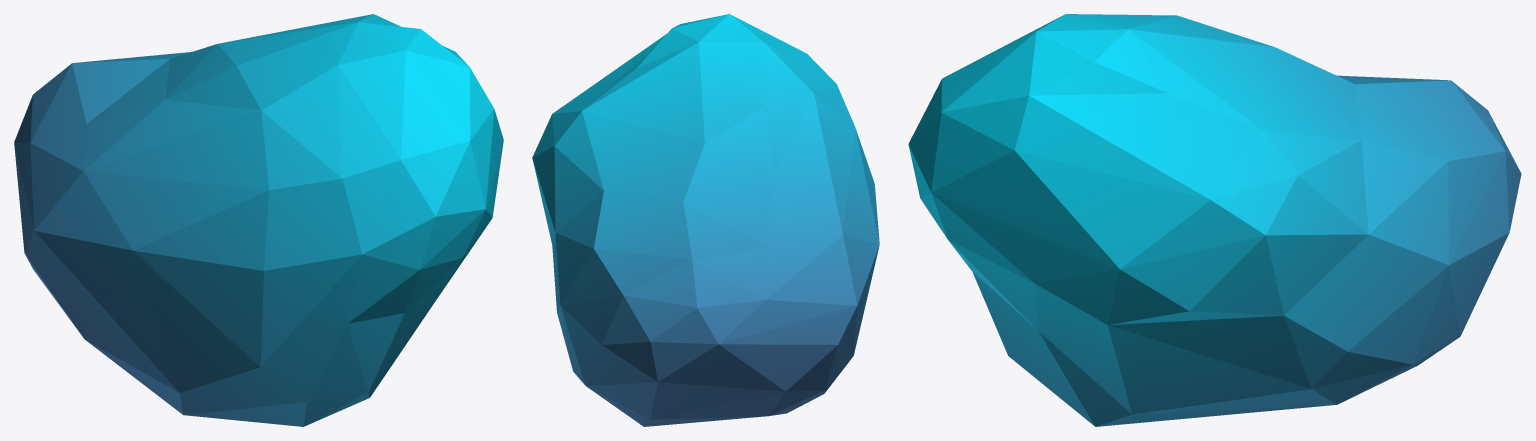
Rendered from Slate.fbx.
3 views of the same model, side by side, from view 1: azimuth 30°, elevation 25°; view 2: azimuth 150°, elevation 25°; view 3: azimuth 270°, elevation 25° (orthographic). The views are drawn at different scales.
Parts seen in each view (by area): view 1: SLATE.001; view 2: SLATE.001; view 3: SLATE.001.
Part boxes in pixels (left/top/right/bottom): SLATE.001: left=14, top=14, right=503, bottom=426; SLATE.001: left=532, top=14, right=879, bottom=426; SLATE.001: left=908, top=14, right=1521, bottom=426.
Bounding box in the file's own units: 139 × 130 × 170.
1 material, 1 textured.
